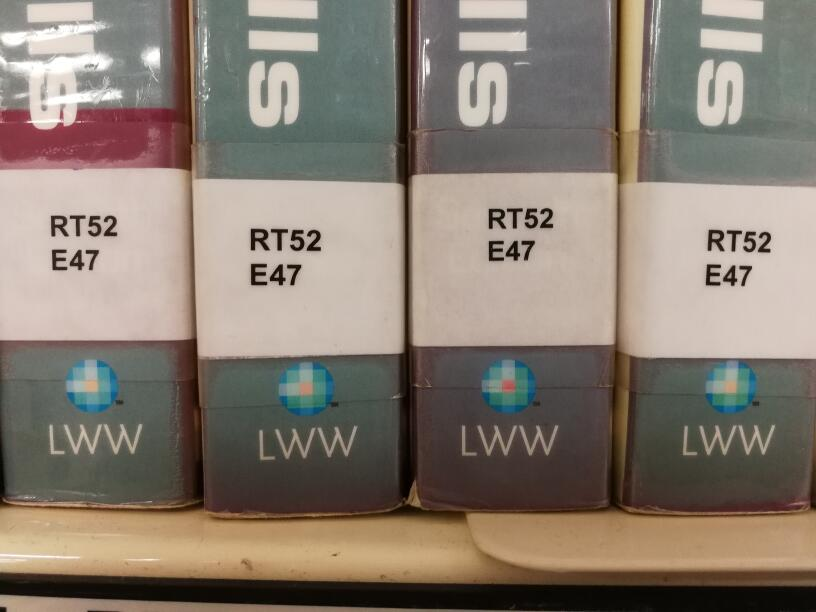booklabel: (246, 224, 324, 288), (47, 209, 121, 274), (703, 226, 773, 289), (484, 205, 556, 264)
